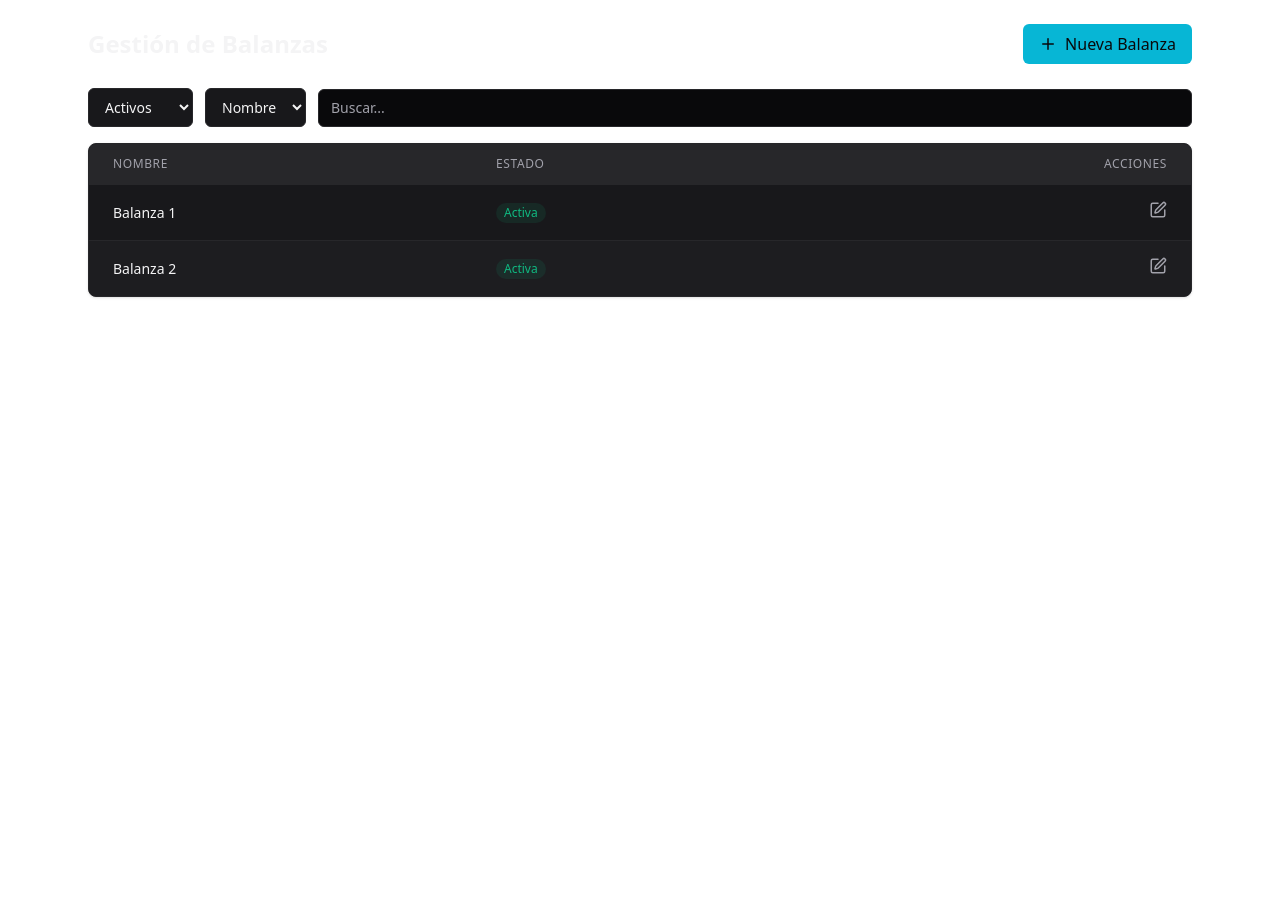
Test: BalanzasPage › editing an active balanza sends PUT with the new nombre and shows update toast
Expected: the text "Balanza 1" is shown, x1=89 y1=184 x2=472 y2=240
Click the button titled "Editar" in the row of "Balanza 1" at (1158, 210), box x1=1149 y1=201 x2=1167 y2=219
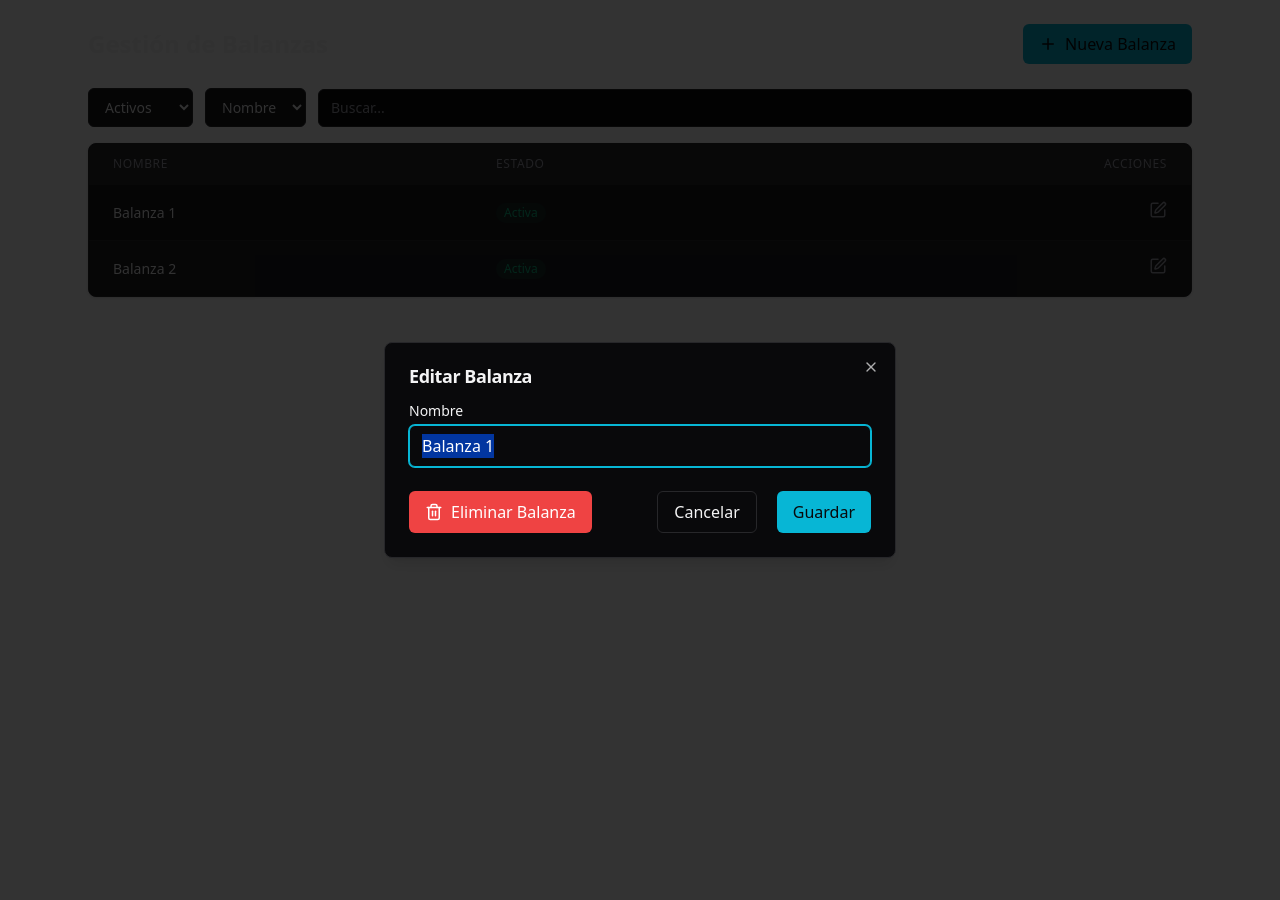
Replace the text in the field labelled "Nombre" with "Balanza 1 Renombrada" at (640, 446), box x1=409 y1=425 x2=871 y2=467
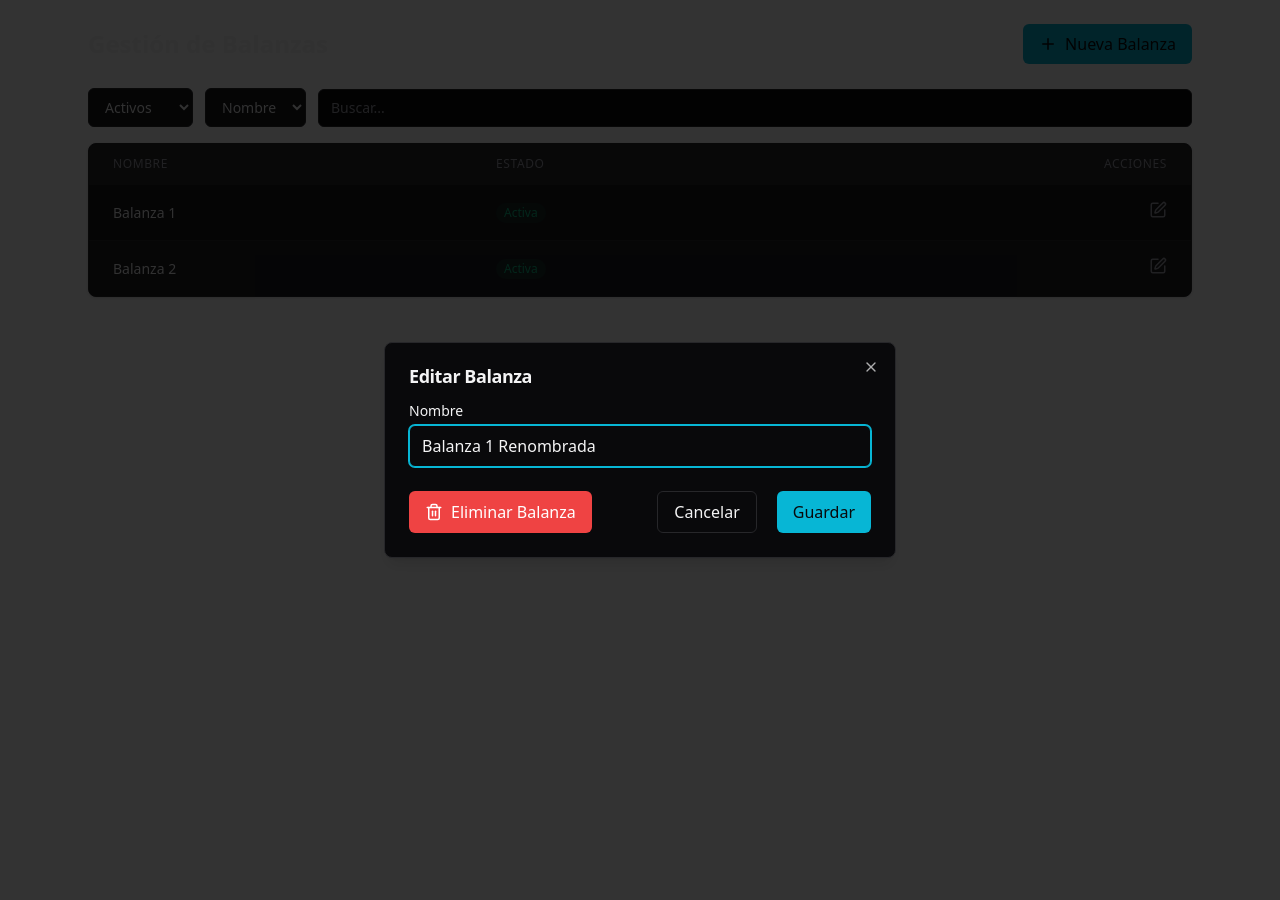
Click the button "Guardar" at (824, 512), box x1=777 y1=491 x2=871 y2=533
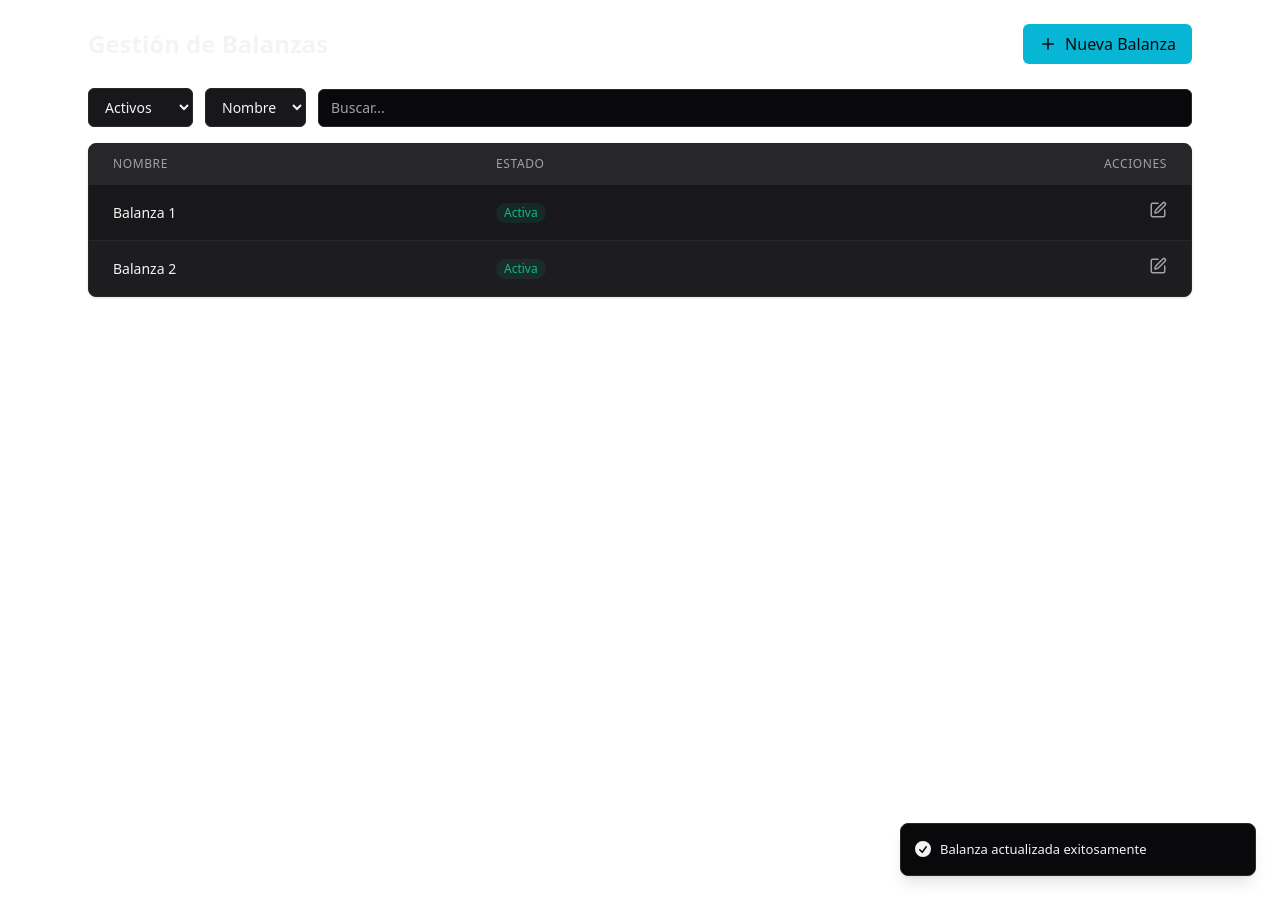
Now the text "Balanza actualizada exitosamente" is shown, box x1=940 y1=840 x2=1146 y2=859
